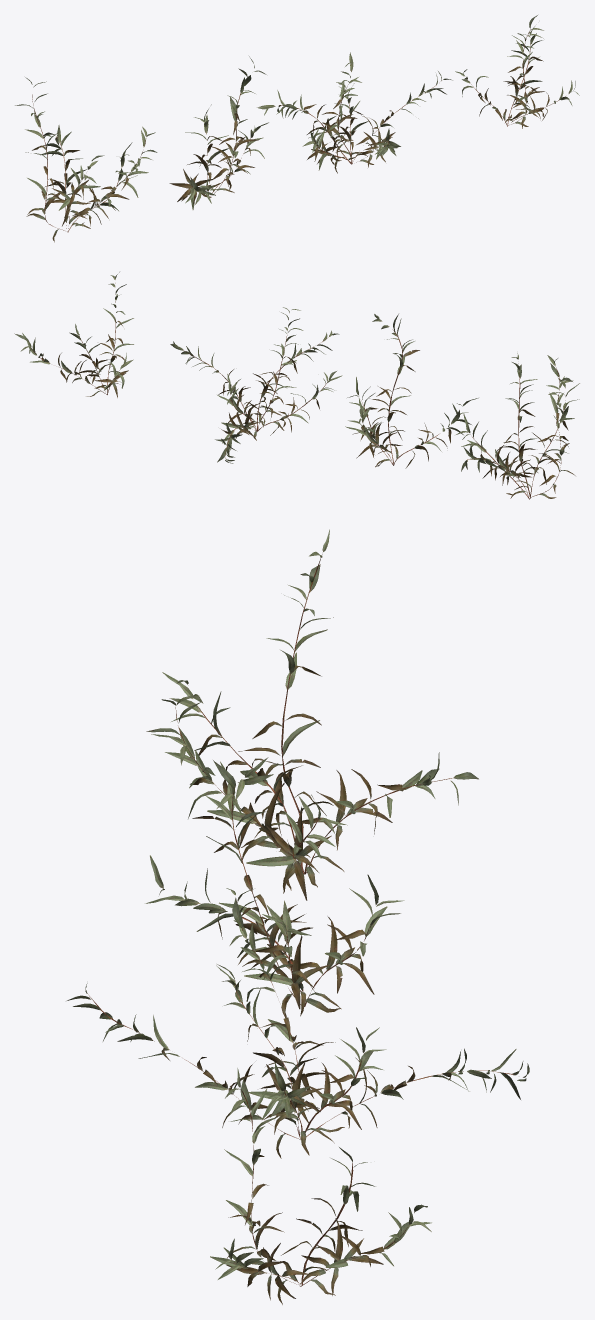
The model's file is shrub_02.glb.
3 renders of one model, top to bottom at view 1: azimuth 30°, elevation 25°; view 2: azimuth 150°, elevation 25°; view 3: azimuth 270°, elevation 25°, orthographic. The views are drawn at different scales.
Parts seen in each view (by area): view 1: shrub_02_a; view 2: shrub_02_a; view 3: shrub_02_a.
Boxes of the visible parts, x1,y1,x2,y2 form: shrub_02_a: [15, 15, 579, 242]; shrub_02_a: [14, 272, 579, 499]; shrub_02_a: [67, 529, 529, 1304].
Bounding box in the file's own units: 6.05 × 1.7 × 2.28.
1 material, 1 textured.
